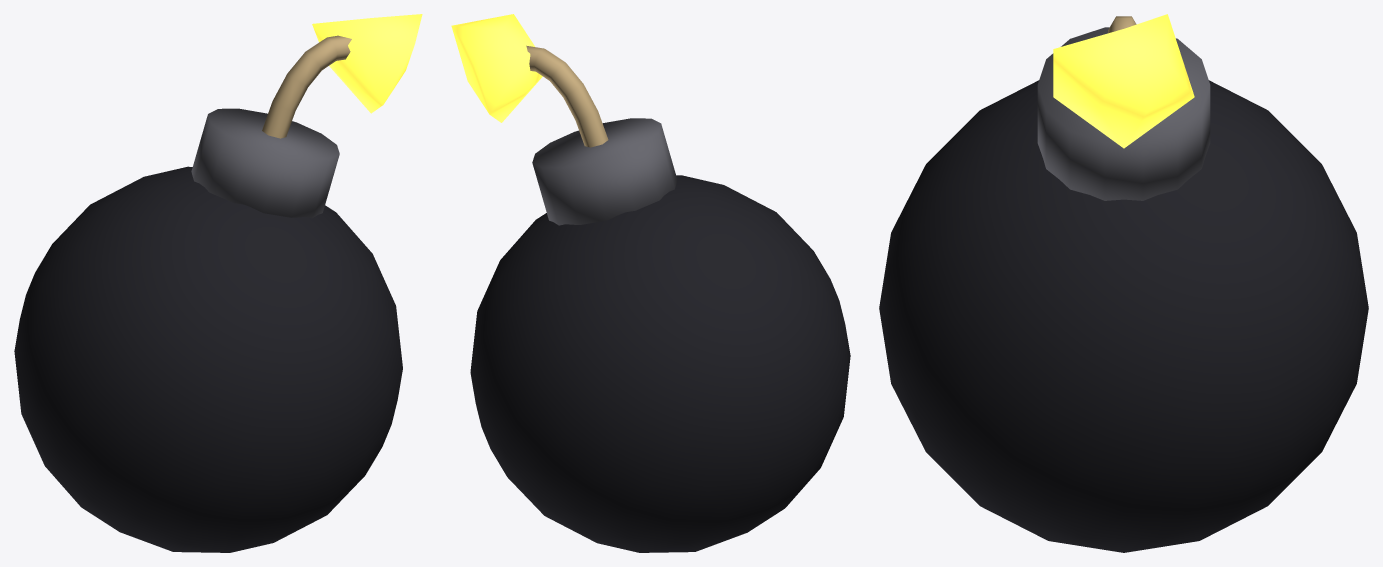
File: bomb.glb
3 views of the same model, side by side, from view 1: azimuth 30°, elevation 25°; view 2: azimuth 150°, elevation 25°; view 3: azimuth 270°, elevation 25° (orthographic). The views are drawn at different scales.
Parts seen in each view (by area): view 1: bomb, bomb_cap, spark, bomb_fuse; view 2: bomb, bomb_cap, spark, bomb_fuse; view 3: bomb, bomb_cap, spark.
Boxes of the visible parts, x1,y1,x2,y2 form: bomb: (14,166,402,552); bomb_cap: (191,108,339,218); spark: (312,14,422,113); bomb_fuse: (262,35,351,138); bomb: (470,175,850,552); bomb_cap: (532,118,677,225); spark: (451,14,542,122); bomb_fuse: (526,45,608,147); bomb: (879,80,1368,552); bomb_cap: (1037,27,1210,200); spark: (1053,14,1194,148).
Size of the model in its own units: 1.92 by 2.3 by 1.7.
